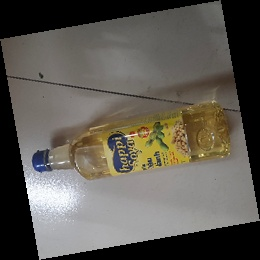Happy Soya: (31, 101, 231, 182)
